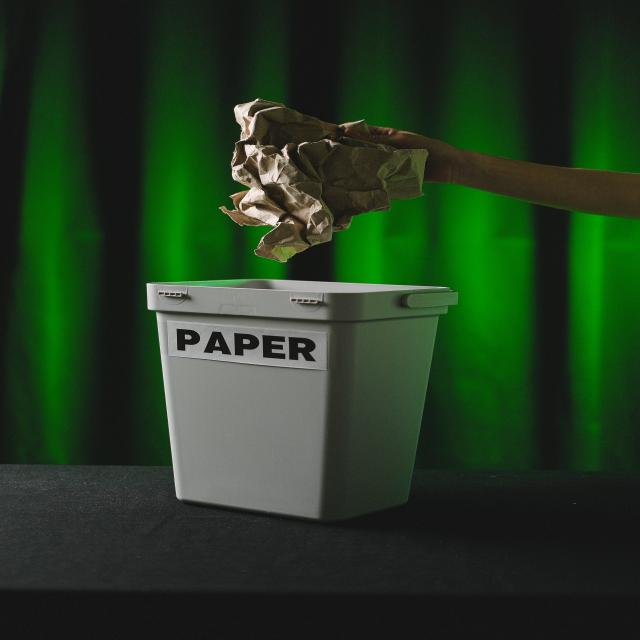paper: (256, 125, 375, 238)
